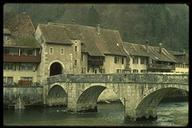bridge: (46, 73, 192, 120)
house: (34, 23, 190, 72), (1, 10, 43, 107)
water: (4, 109, 126, 124)
